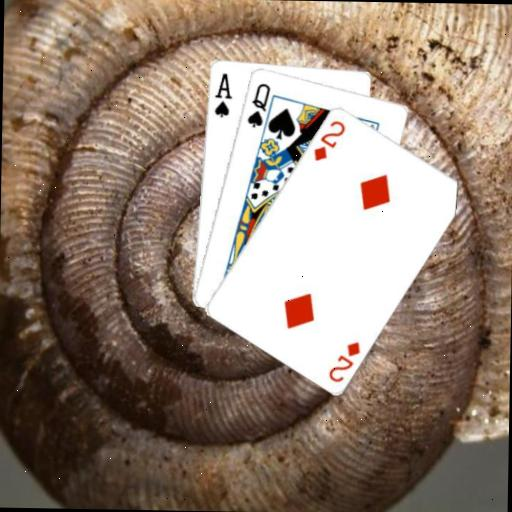2D: (311, 117, 348, 164), (325, 338, 362, 384)
AS: (211, 69, 234, 118)
QS: (244, 80, 272, 129)
